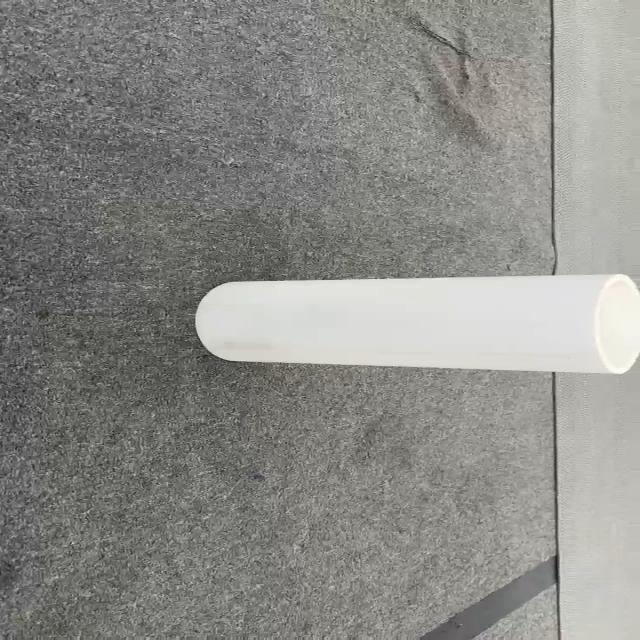coral: (193, 272, 638, 374)
